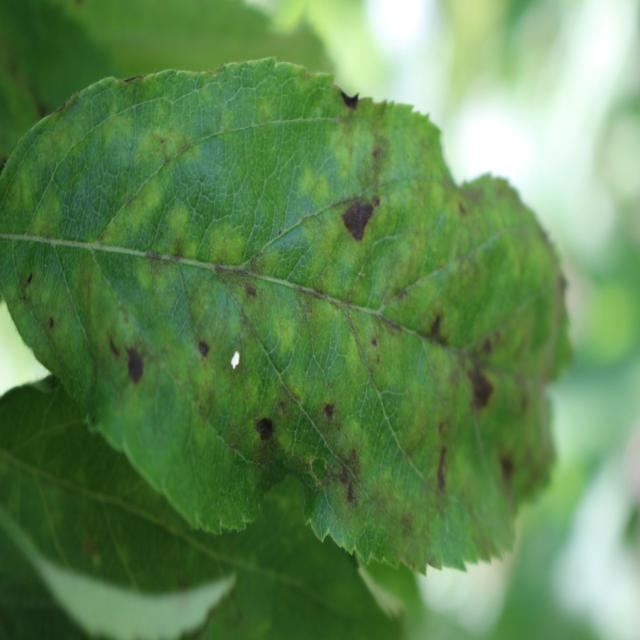scab: (12, 69, 580, 569)
